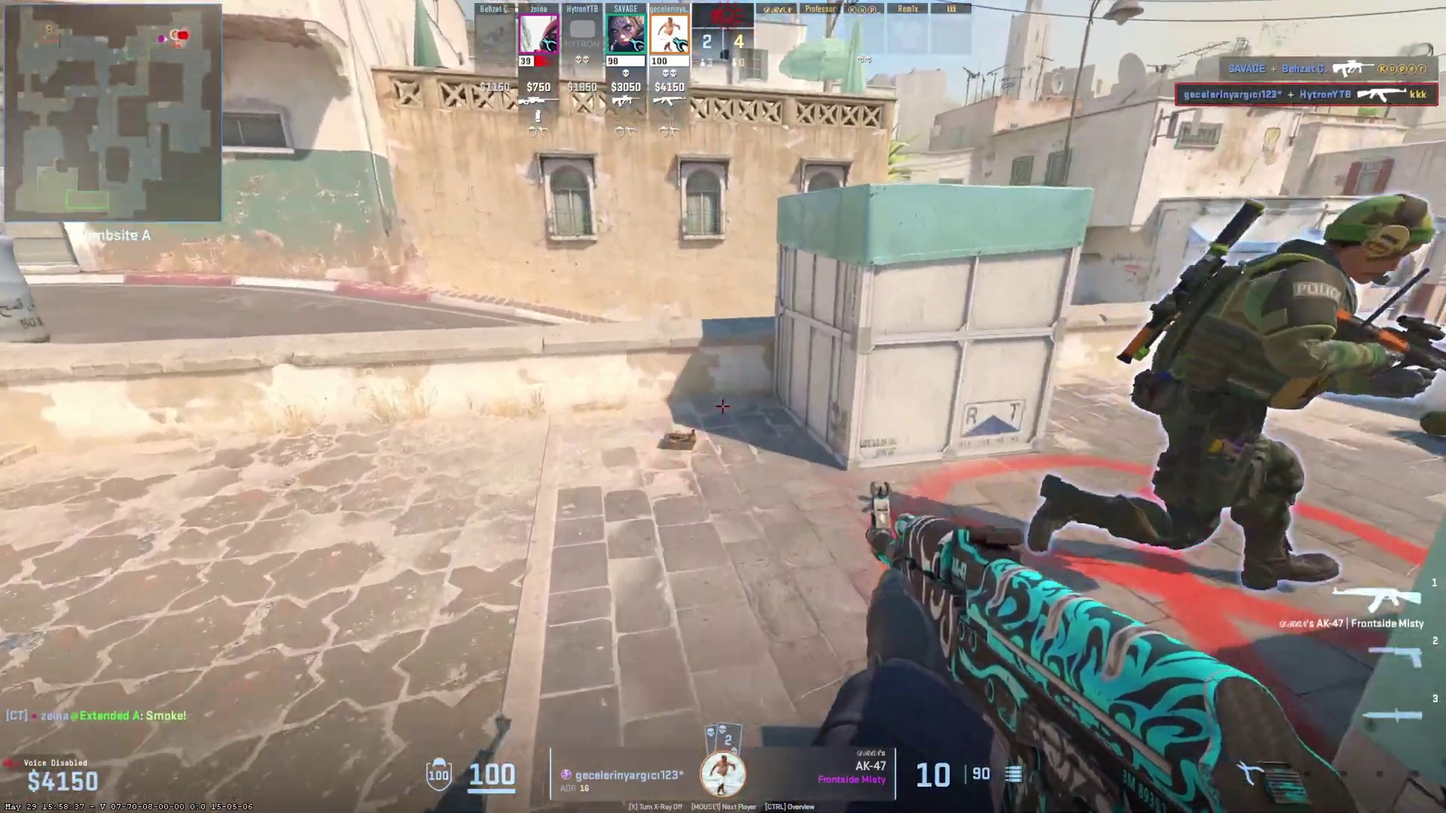CT: (1029, 194, 1436, 575)
